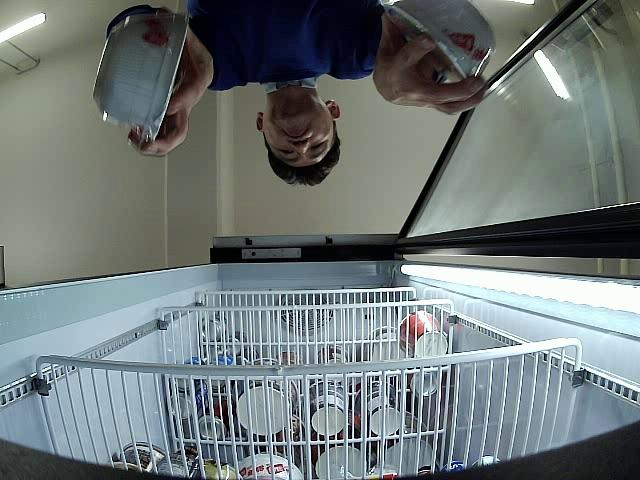00_hand: (373, 14, 486, 115), (142, 22, 212, 157)
09_yukGaeJang: (93, 9, 188, 141), (381, 0, 494, 78)
